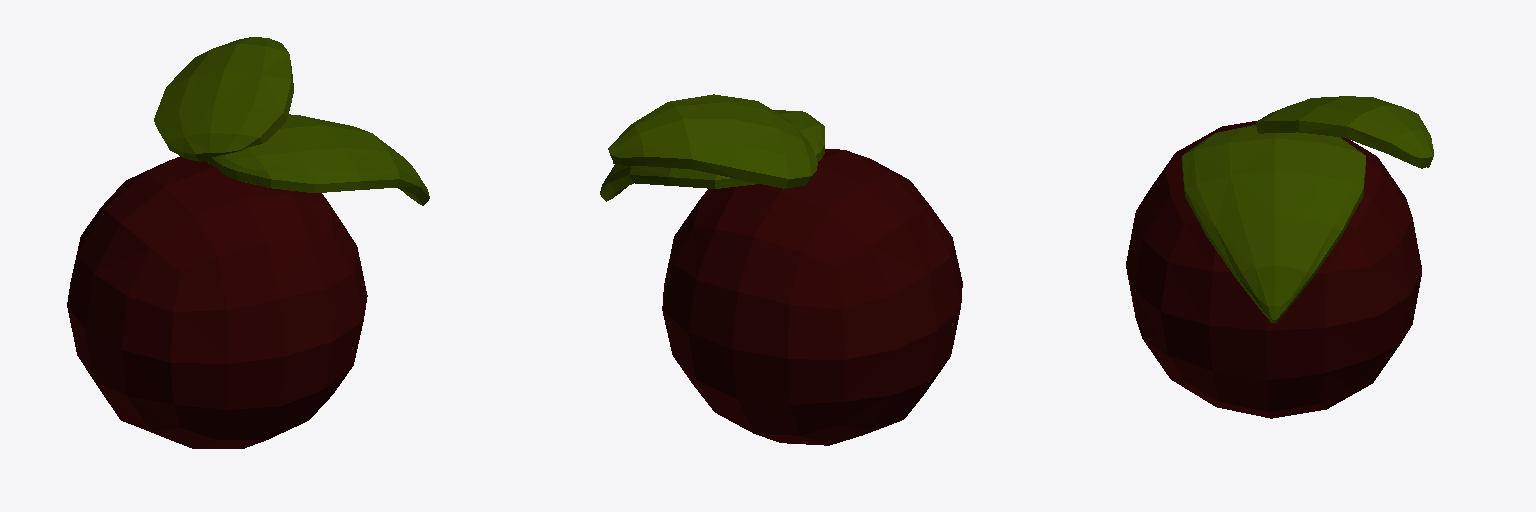
Rendered from Fruit.obj.
3 views of the same model, side by side, from view 1: azimuth 30°, elevation 25°; view 2: azimuth 150°, elevation 25°; view 3: azimuth 270°, elevation 25° (orthographic).
Parts seen in each view (by area): view 1: Fruit_Cube.006; view 2: Fruit_Cube.006; view 3: Fruit_Cube.006.
Part boxes in pixels (x1,y1,x2,y2): Fruit_Cube.006: (67, 37, 429, 448); Fruit_Cube.006: (600, 94, 962, 445); Fruit_Cube.006: (1126, 96, 1433, 418).
Bounding box in the file's own units: 0.8773 × 0.8231 × 0.6887.